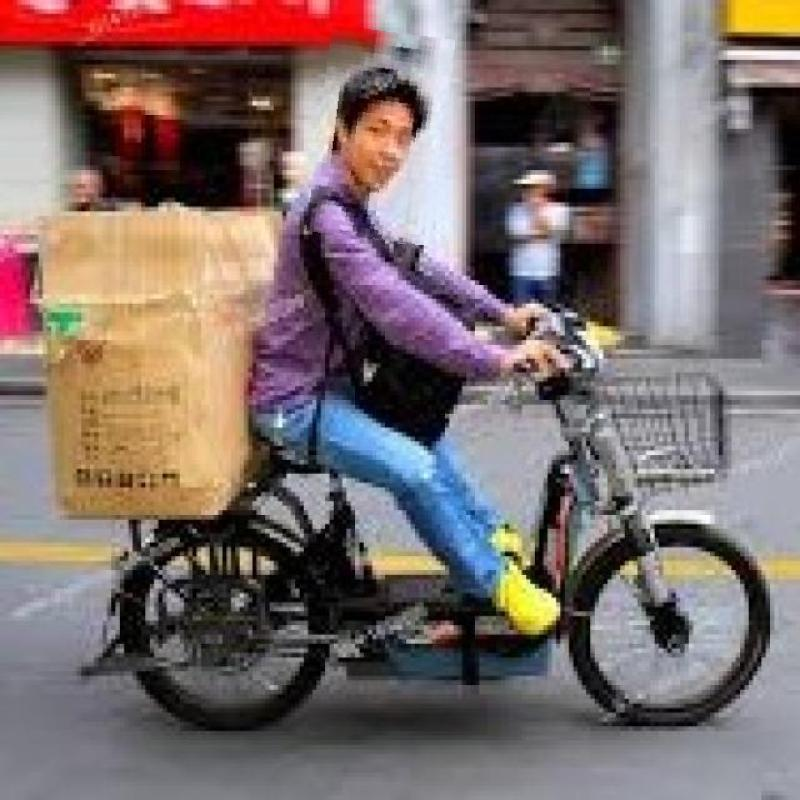nohelmet: (312, 29, 449, 244)
